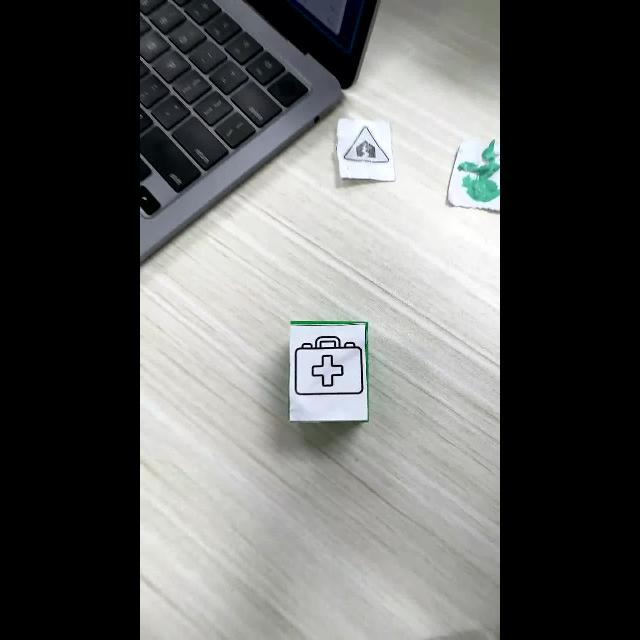Medkit: (294, 336, 364, 396)
